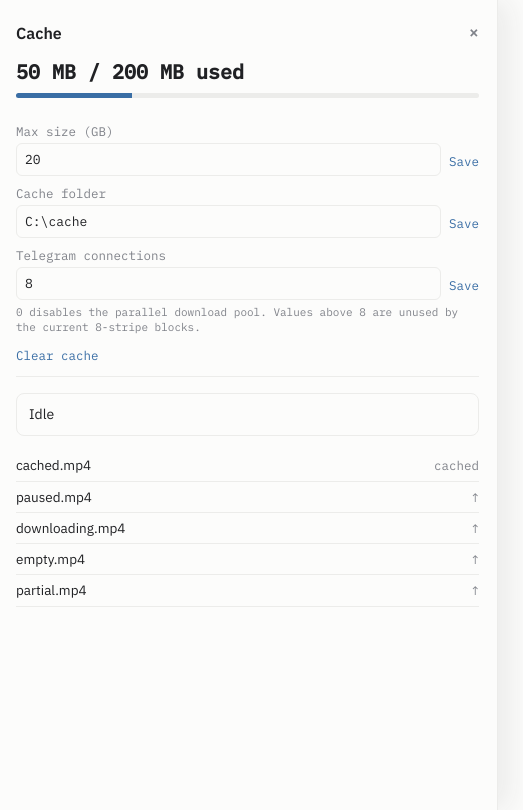
Test: CacheDrawer › re-enables the cache-now button and shows a message when the request throws
Click the button with class "cache-drawer-item-queue" in the row of "empty.mp4". click: (475, 559)
box: top-left (472, 551), bottom-right (479, 567)
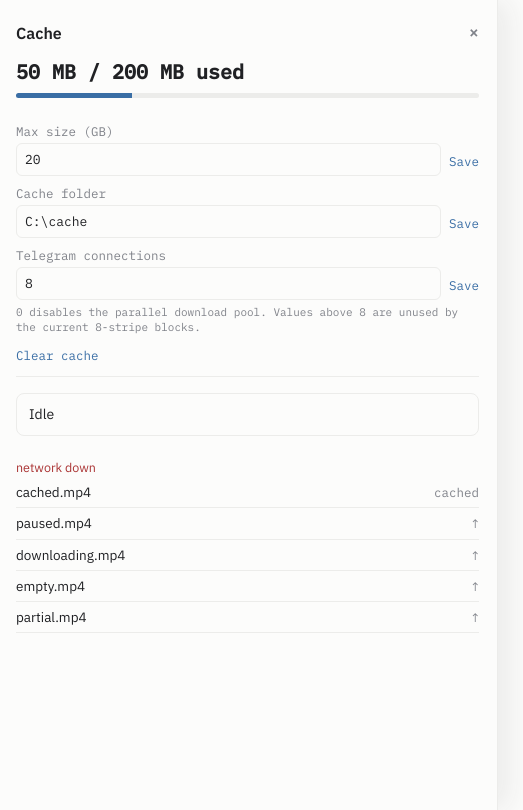
Expected: the button with class "cache-drawer-item-queue" in the row of "empty.mp4" is enabled, top-left (472, 578), bottom-right (479, 594)
Now the message reads "network down", box top-left (16, 459), bottom-right (96, 475)
